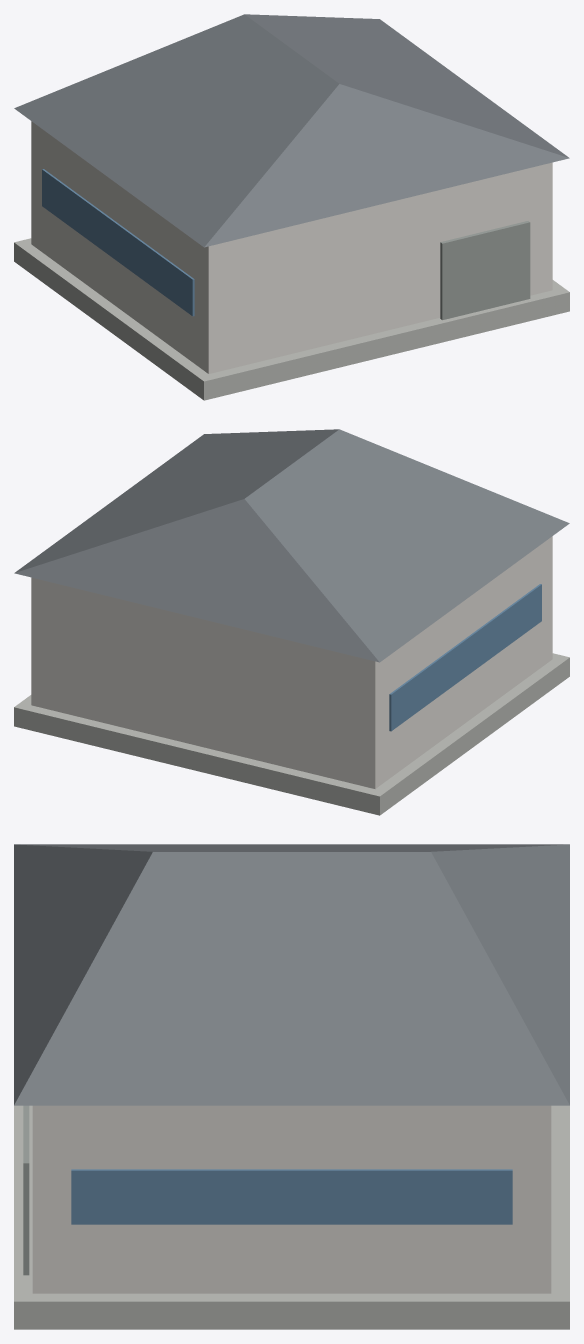
The model's file is house_suburban_bungalow.glb.
The picture shows the model from 3 angles, top to bottom: view 1: azimuth 30°, elevation 25°; view 2: azimuth 150°, elevation 25°; view 3: azimuth 270°, elevation 25°; orthographic projection. The views are drawn at different scales.
Parts seen in each view (by area): view 1: house_suburban_bungalow; view 2: house_suburban_bungalow; view 3: house_suburban_bungalow.
Boxes of the visible parts, x1,y1,x2,y2 form: house_suburban_bungalow: (14, 14, 569, 400); house_suburban_bungalow: (14, 429, 569, 815); house_suburban_bungalow: (14, 844, 569, 1329).
Bounding box in the file's own units: 10 × 6.2 × 9.
